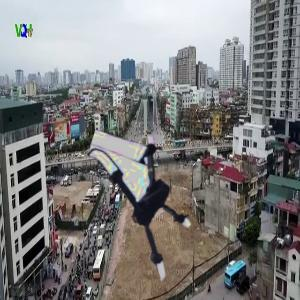drone: (75, 138, 217, 280)
